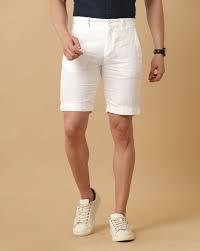short: (60, 13, 146, 120)
